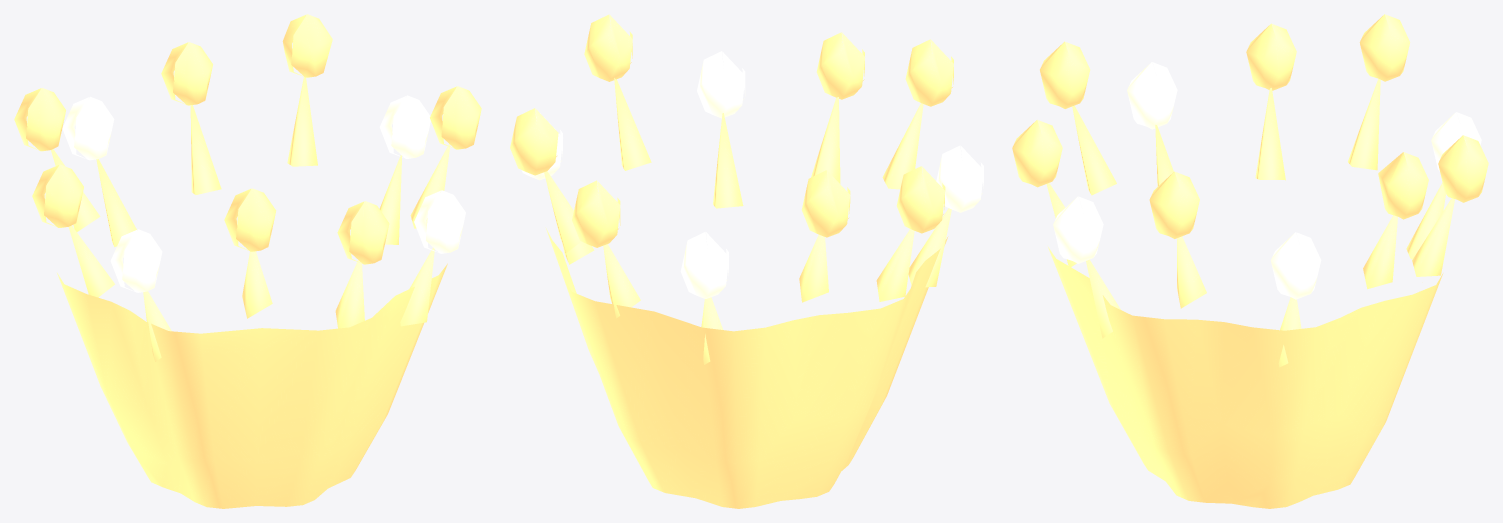
File: mwm_fx_splash.glb
3 renders of one model, left to right at view 1: azimuth 30°, elevation 25°; view 2: azimuth 150°, elevation 25°; view 3: azimuth 270°, elevation 25°, orthographic. The views are drawn at different scales.
Size of the model in its own units: 1.38 by 1.21 by 1.38.
1 material, 1 textured.
